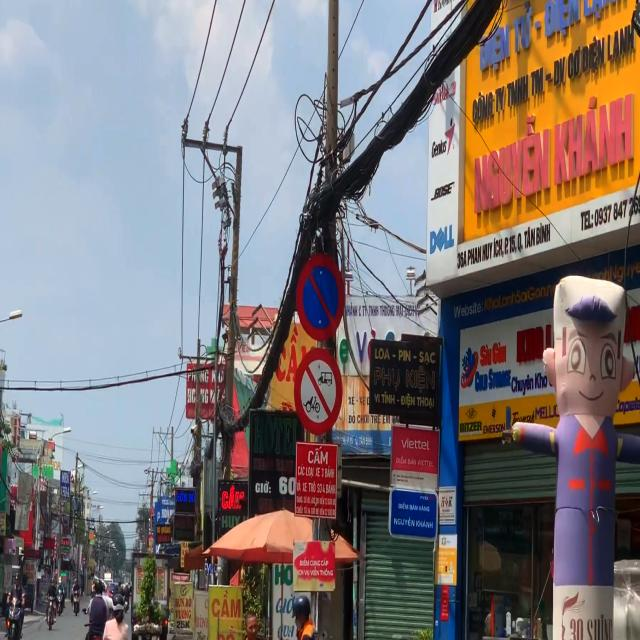Cam con lai: (294, 348, 344, 434)
Cam do: (294, 251, 347, 342)
